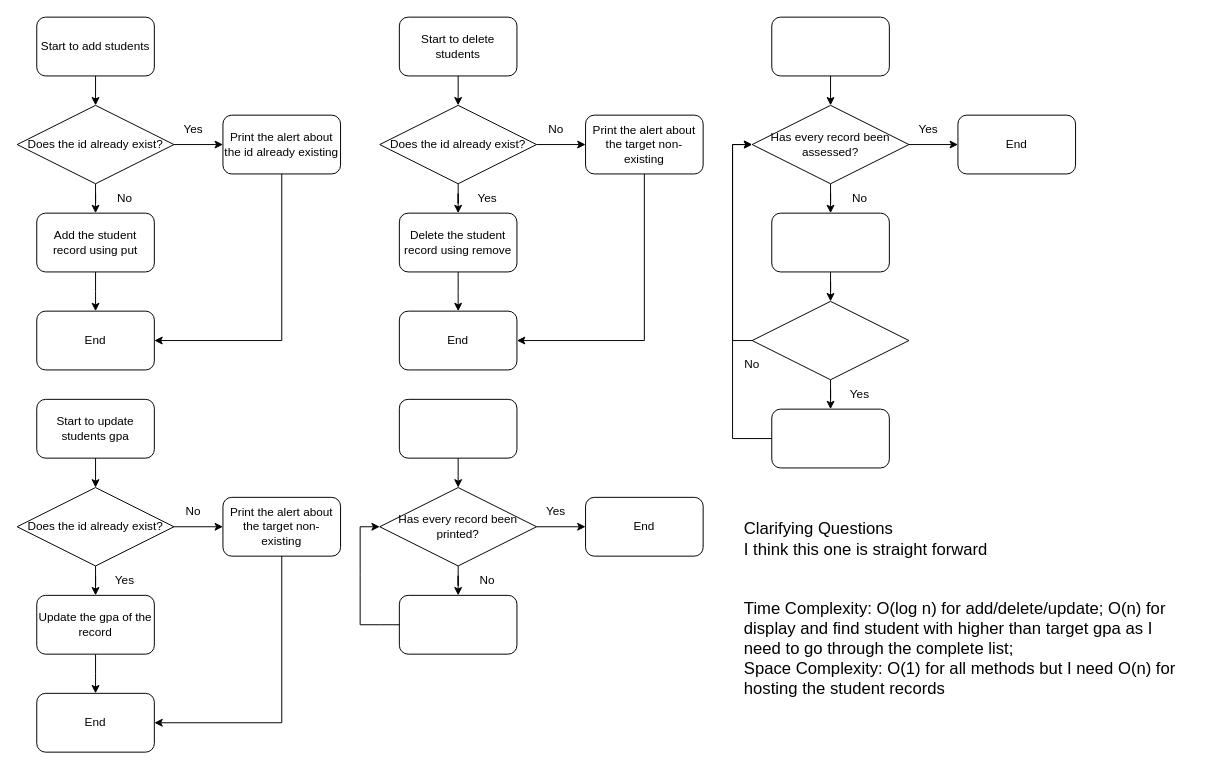
Some shapes in this 1210 by 769 pixel diagram are drawn without their labels. Here are the shapes that lost their labels. From the top down, the box of each, then its label:
(771, 16, 889, 76): Start to look for students with gpa higher than target
(771, 212, 889, 272): Assess the next student record
(751, 300, 909, 380): Is the current record having a gpa higher than target?
(398, 398, 517, 458): Start to display students
(771, 408, 889, 468): Print the student record
(398, 594, 517, 654): Print the next student record
